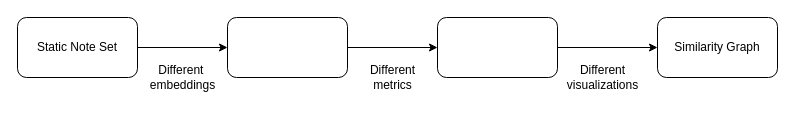
This 795x115 diagram has some shape labels left out. The centre of each missing label's shape, as x and y in pixels:
"Distance Measure" belongs at point 497,47.
"Vector Representation" belongs at point 287,47.
